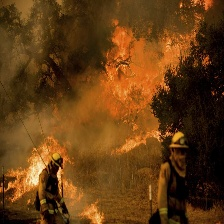fire: (4, 136, 83, 207), (104, 24, 163, 118), (113, 119, 174, 158), (79, 199, 113, 224)
smoke: (7, 5, 94, 135)
